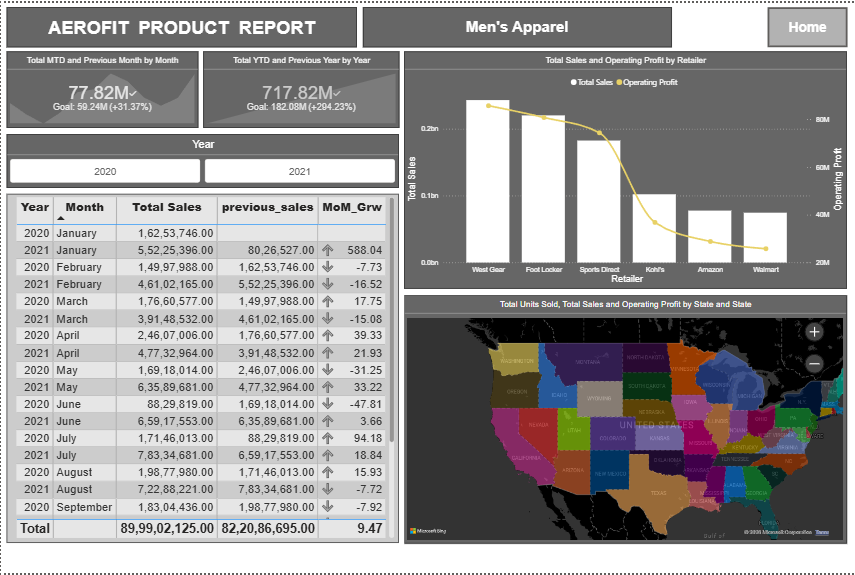

The dashboard page shown, as its layout file describes it:
{"tool":"powerbi","page":{"name":"Product Page","canvas":[1500,1000],"ordinal":1},"visuals":[{"type":"card","fields":{"Values":["Min(Adidas Sales.Product)"]},"box":[634,8,542,70],"z":0},{"type":"lineStackedColumnComboChart","title":"Total Sales and Operating Profit by Retailer","fields":{"Category":["Adidas Sales.Retailer"],"Y":["Sum(Adidas Sales.Total Sales)"],"Y2":["Sum(Adidas Sales.Operating Profit)"]},"box":[708,86,776,416],"z":1000},{"type":"tableEx","fields":{"Values":["Date_Master.Date.Variation.Date Hierarchy.Year","Date_Master.Date.Variation.Date Hierarchy.Month","Sum(Adidas Sales.Total Sales)","Adidas Sales.previous_sales","Adidas Sales.MoM_Grw"]},"box":[10,336,688,612],"z":2000},{"type":"advancedSlicerVisual","fields":{"Values":["Date_Master.Date.Variation.Date Hierarchy.Year"]},"box":[10,230,688,94],"z":3000},{"type":"filledMap","title":"Total Units Sold, Total Sales and Operating Profit by State and State","fields":{"Category":["Adidas Sales.State"],"Series":["Adidas Sales.State"]},"box":[708,512,776,436],"z":4000},{"type":"kpi","title":"Total YTD and Previous Year by Year","fields":{"Indicator":["Adidas_Sales.TotalYTD"],"TrendLine":["Date_Master.Date.Variation.Date Hierarchy.Year"],"Goal":["Adidas_Sales.Pre_year"]},"box":[354,86,344,134],"z":5000},{"type":"kpi","title":"Total MTD and Previous Month by Month","fields":{"Indicator":["Adidas_Sales.TotalMTD"],"TrendLine":["Date_Master.Date.Variation.Date Hierarchy.Month"],"Goal":["Adidas_Sales.Pre_month"]},"box":[10,86,336,134],"z":6000},{"type":"textbox","box":[10,8,614,70],"z":7000},{"type":"actionButton","box":[1344,8,140,70],"z":9000}]}

Visuals, with their boxes in screenshot pixels (x1, y1, x2, y2), scaled from the page's 1500x1000 canvas onto the 855x575 screenshot:
card - Min(Adidas Sales.Product): [left=361, top=5, right=670, bottom=45]
"Total Sales and Operating Profit by Retailer" lineStackedColumnComboChart: [left=404, top=49, right=846, bottom=289]
tableEx - Date_Master.Date.Variation.Date Hierarchy.Year x Date_Master.Date.Variation.Date Hierarchy.Month: [left=6, top=193, right=398, bottom=545]
advancedSlicerVisual - Date_Master.Date.Variation.Date Hierarchy.Year: [left=6, top=132, right=398, bottom=186]
"Total Units Sold, Total Sales and Operating Profit by State and State" filledMap: [left=404, top=294, right=846, bottom=545]
"Total YTD and Previous Year by Year" kpi: [left=202, top=49, right=398, bottom=126]
"Total MTD and Previous Month by Month" kpi: [left=6, top=49, right=197, bottom=126]
textbox: [left=6, top=5, right=356, bottom=45]
actionButton: [left=766, top=5, right=846, bottom=45]
